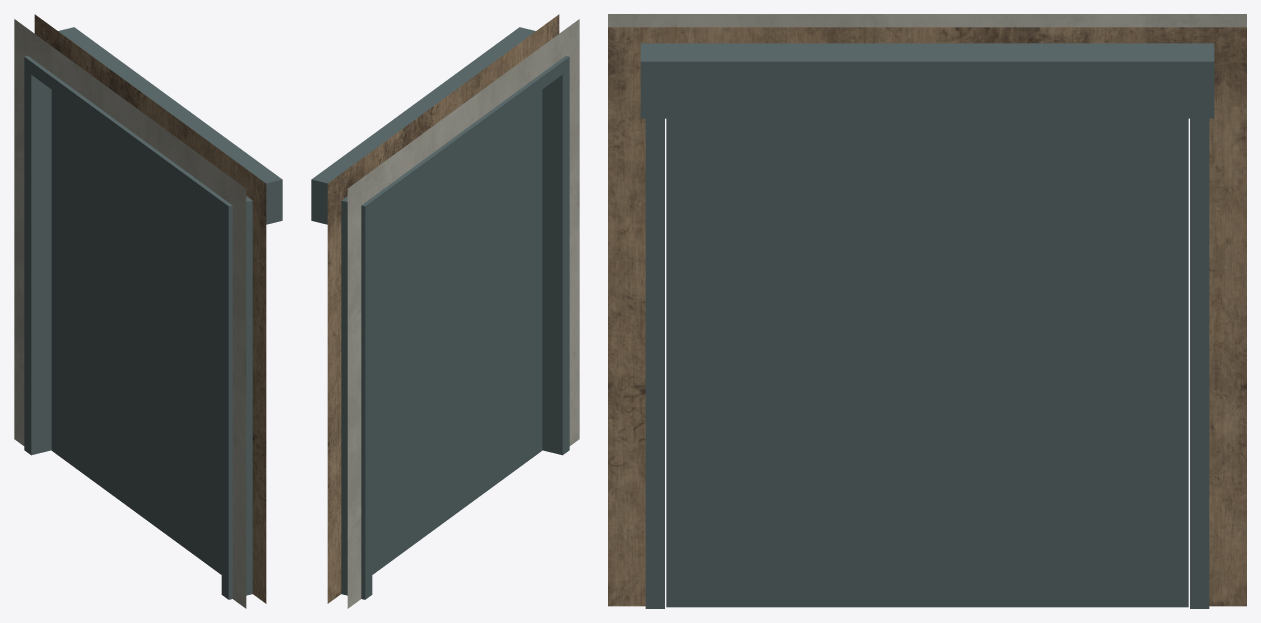
File: Wall_Garage_Door.fbx
The picture shows the model from 3 angles, left to right: view 1: azimuth 30°, elevation 25°; view 2: azimuth 150°, elevation 25°; view 3: azimuth 270°, elevation 25°; orthographic projection. The views are drawn at different scales.
Parts seen in each view (by area): view 1: Cube.098, Cube.099; view 2: Cube.098, Cube.099; view 3: Cube.098, Cube.099.
Boxes of the visible parts, bbox=[...] form: Cube.098: bbox=[51, 90, 221, 574]; Cube.099: bbox=[14, 14, 282, 608]; Cube.098: bbox=[372, 90, 542, 574]; Cube.099: bbox=[311, 14, 579, 608]; Cube.098: bbox=[666, 118, 1188, 607]; Cube.099: bbox=[608, 14, 1246, 608].
Bounding box in the file's own units: 25.86 × 200 × 200.
